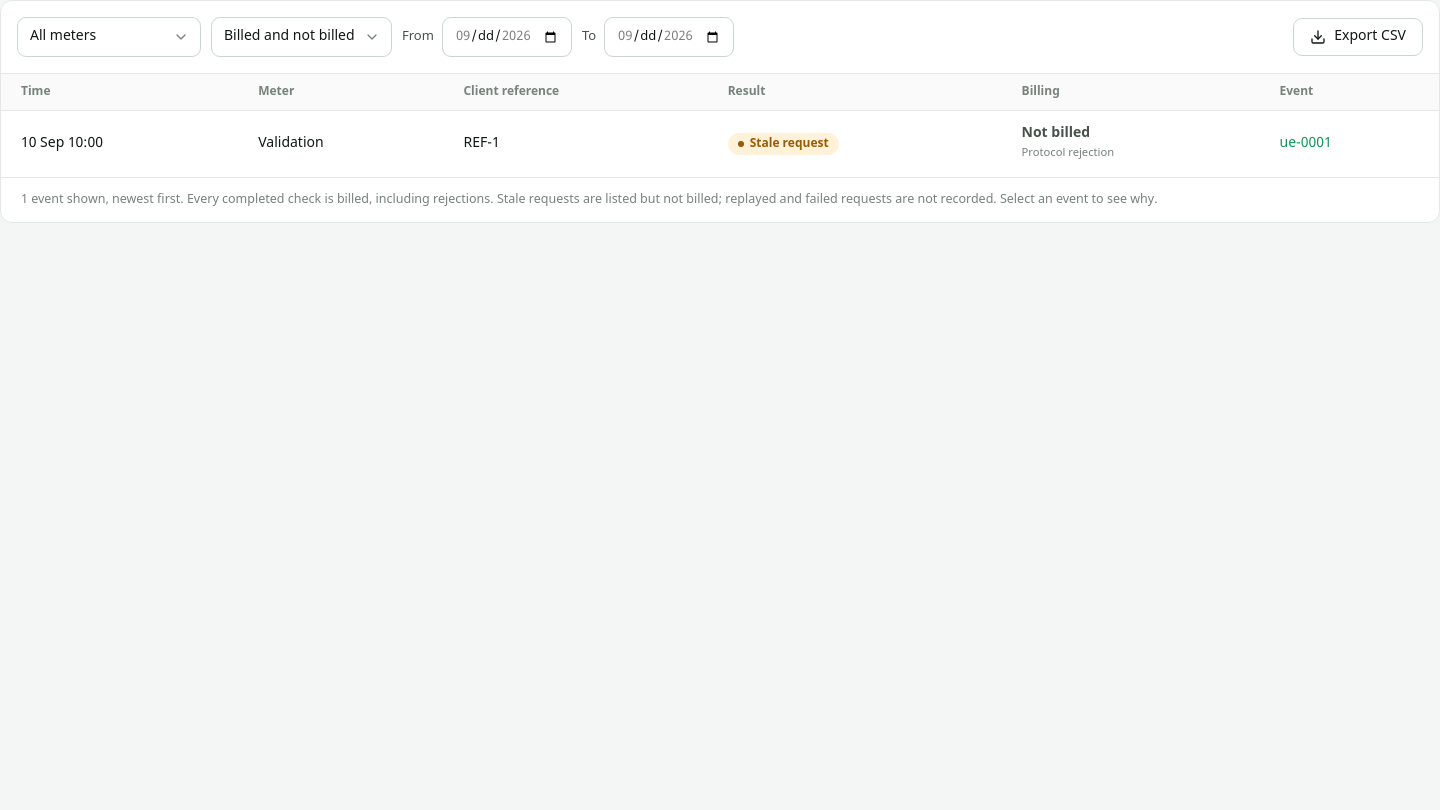
Test: usage table billing reasons › shows "Not billed" with its reason, and opens the full explanation
This screenshot has width=1440, height=810.
Expected: the text "Protocol rejection" is shown, [1022, 146, 1114, 161]
Expected: the text "Not billed" is shown, [1022, 124, 1090, 143]
Click the row that starts with "10 Sep 10:00".
click(62, 144)  # box [1, 110, 1439, 177]
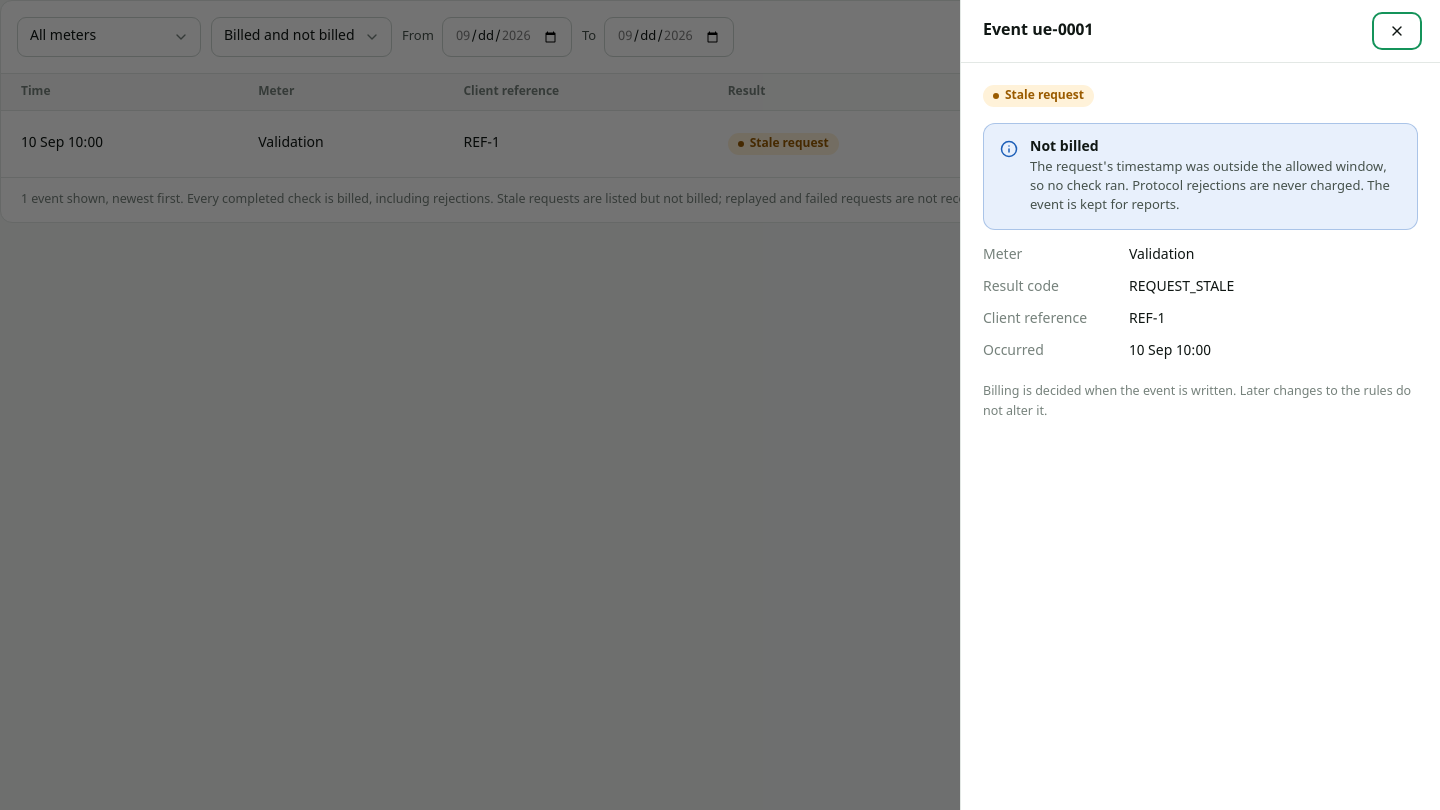
Result: the text "timestamp was outside the allowed window" is shown at [1030, 159, 1390, 214]
Result: the text "REQUEST_STALE" is shown at [1129, 278, 1234, 297]
Press Escape
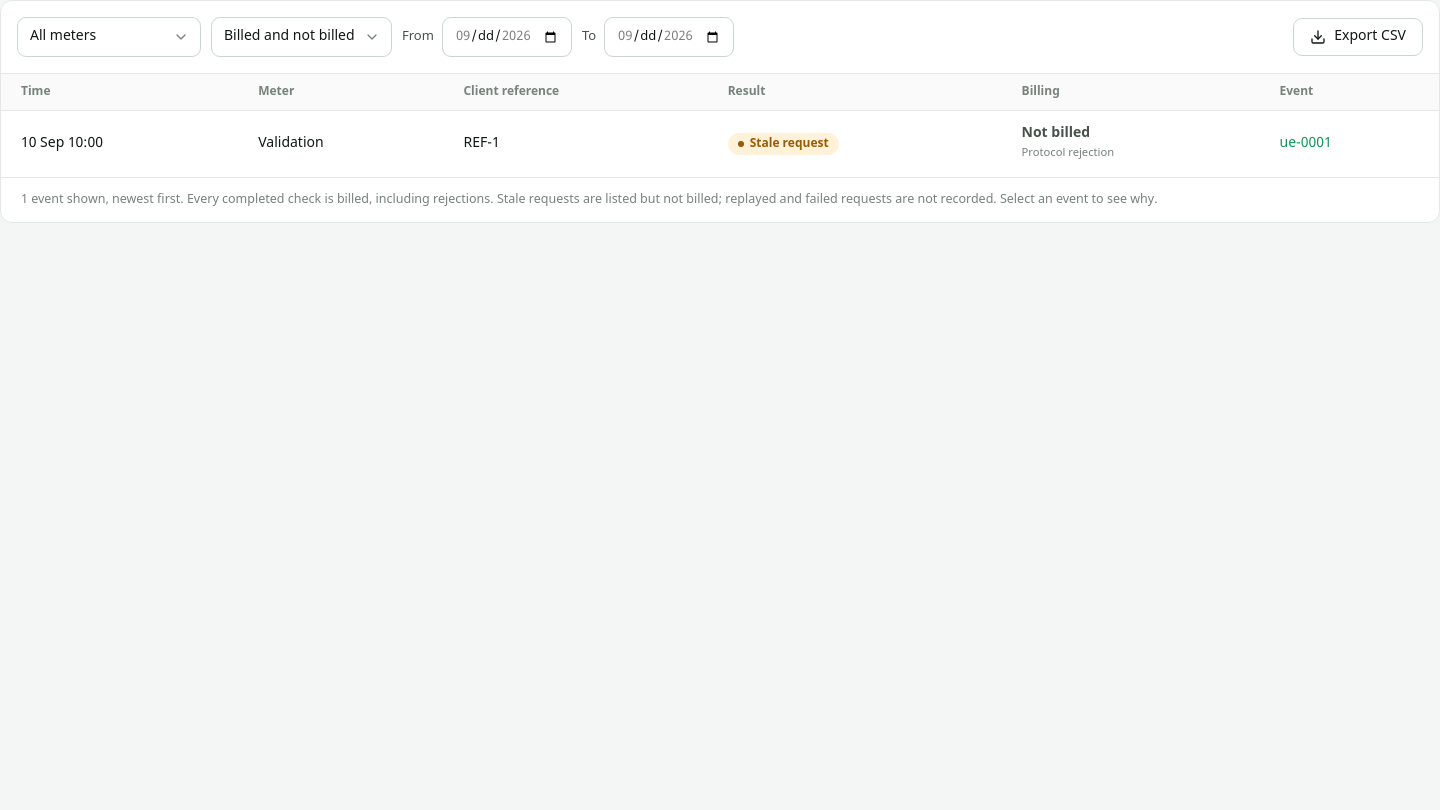
Result: the dialog is gone
